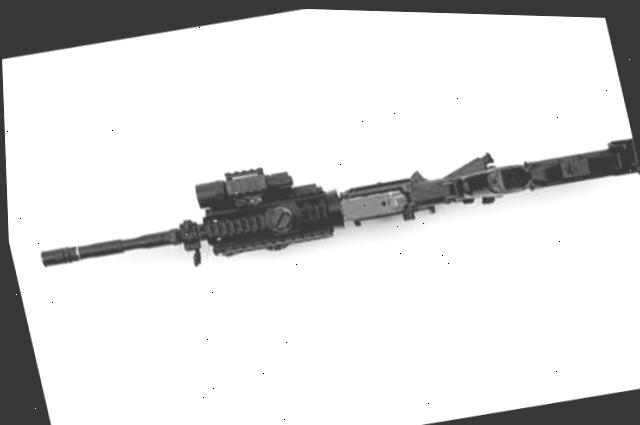rifle: (13, 65, 640, 331)
